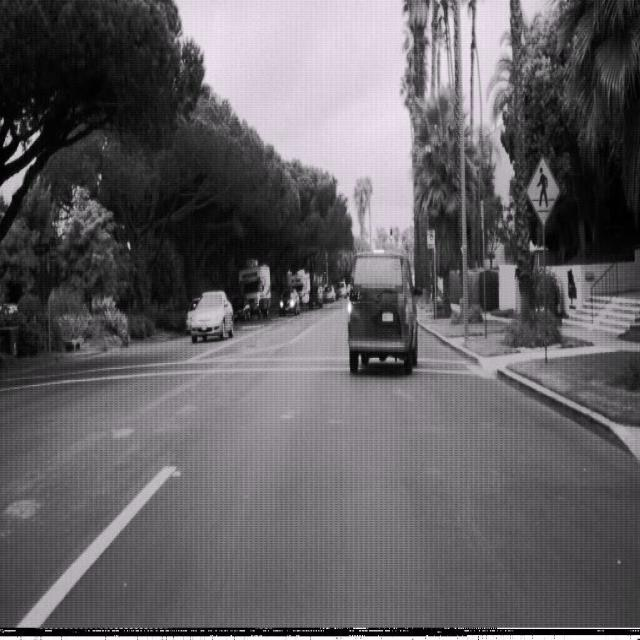pedestrianCrossing: (525, 154, 561, 226)
